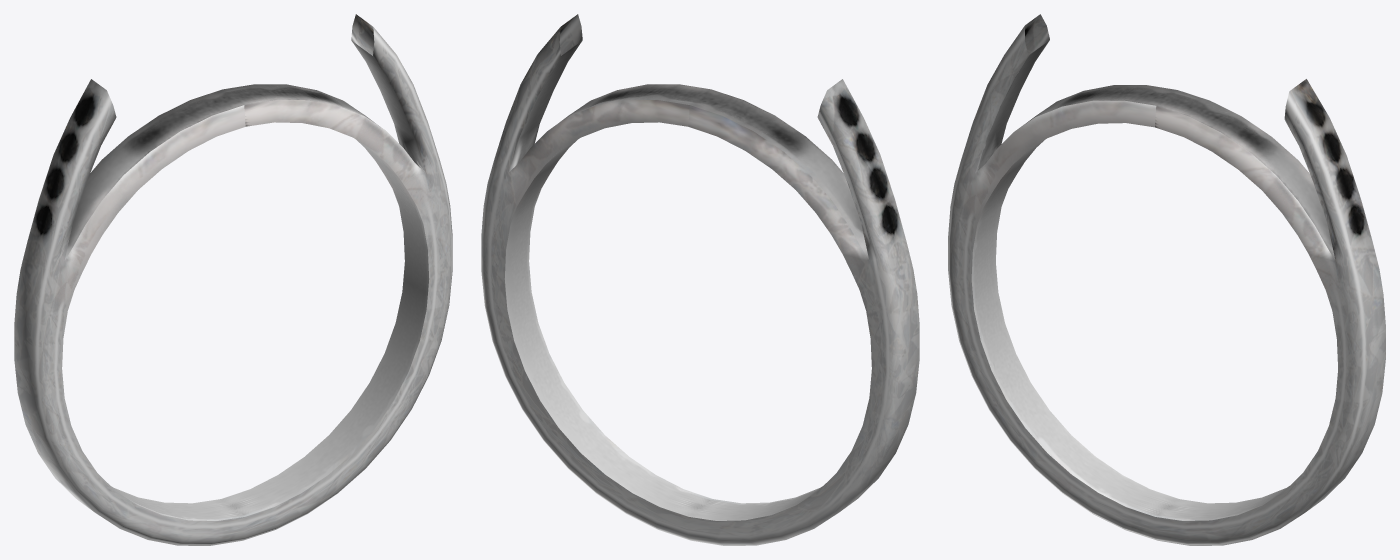
File: zalesRing_base.obj
The picture shows the model from 3 angles, left to right: view 1: azimuth 30°, elevation 25°; view 2: azimuth 150°, elevation 25°; view 3: azimuth 330°, elevation 25°; orthographic projection.
Parts seen in each view (by area): view 1: zalesRing_base:Ring zalesRing_base:pPipe1 zalesRing_base:polySur; view 2: zalesRing_base:Ring zalesRing_base:pPipe1 zalesRing_base:polySur; view 3: zalesRing_base:Ring zalesRing_base:pPipe1 zalesRing_base:polySur.
Part boxes in pixels (box(x1,y1,x2,y2)): zalesRing_base:Ring zalesRing_base:pPipe1 zalesRing_base:polySur: box(14, 14, 452, 545); zalesRing_base:Ring zalesRing_base:pPipe1 zalesRing_base:polySur: box(481, 14, 919, 545); zalesRing_base:Ring zalesRing_base:pPipe1 zalesRing_base:polySur: box(948, 14, 1385, 545).
Bounding box in the file's own units: 6.73 × 7.38 × 0.6868.
1 material, 1 textured.
